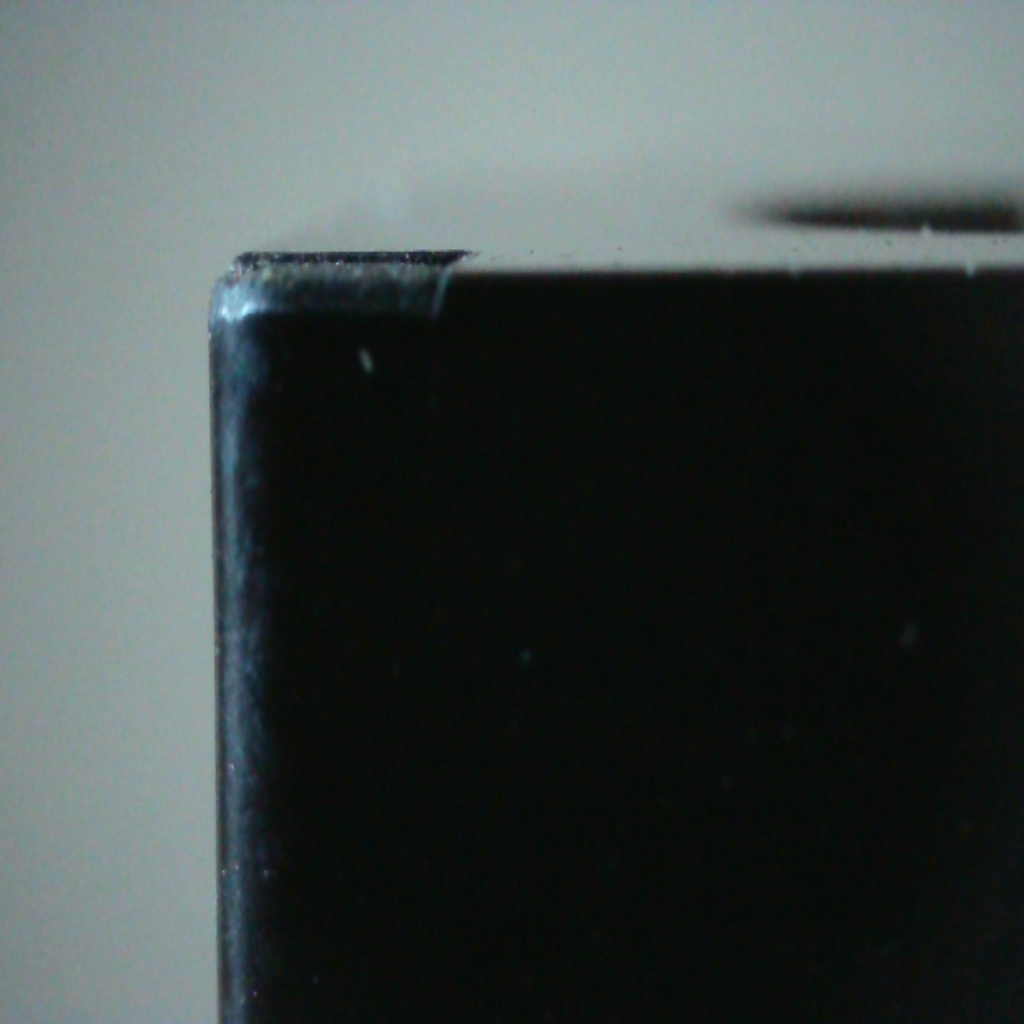flank_wear: (216, 297, 274, 334)
